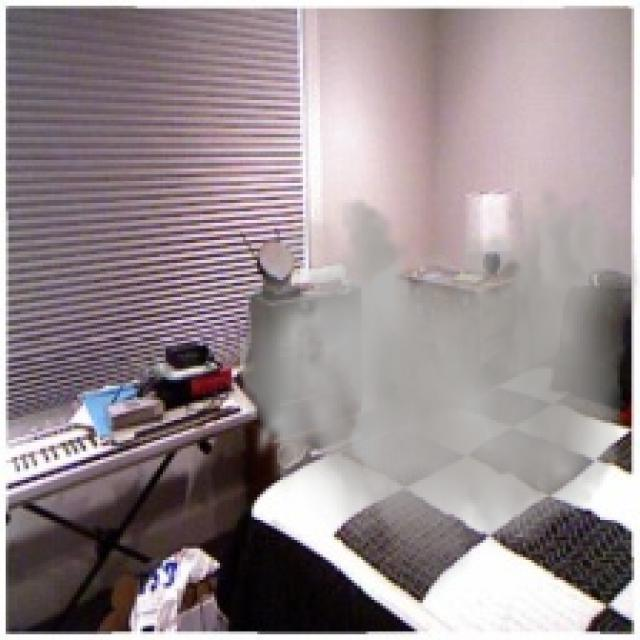Smoke: (240, 186, 637, 603)
